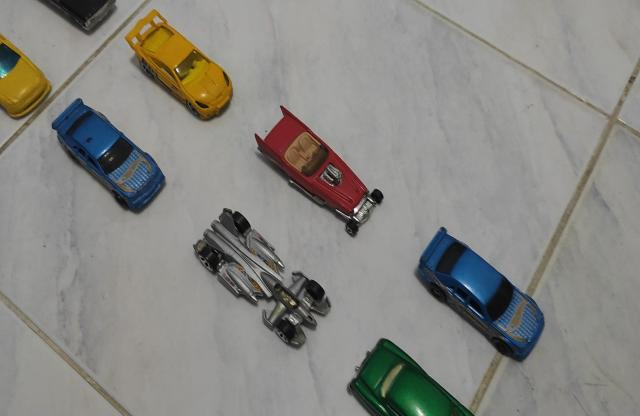01_FORD: (45, 0, 117, 32)
02_OZSOME: (0, 33, 53, 121)
03_V8: (254, 104, 384, 240)
04_MERZEDES: (417, 225, 546, 364), (51, 97, 166, 214)
05_DC121: (192, 207, 333, 350)
06_MASERATI: (346, 337, 476, 416)
07_RHLTURBO: (124, 8, 235, 120)
